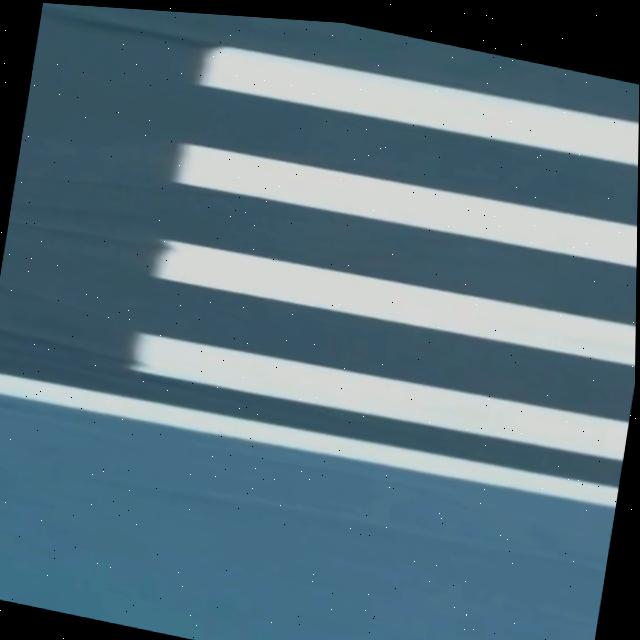left: (0, 374, 619, 509)
